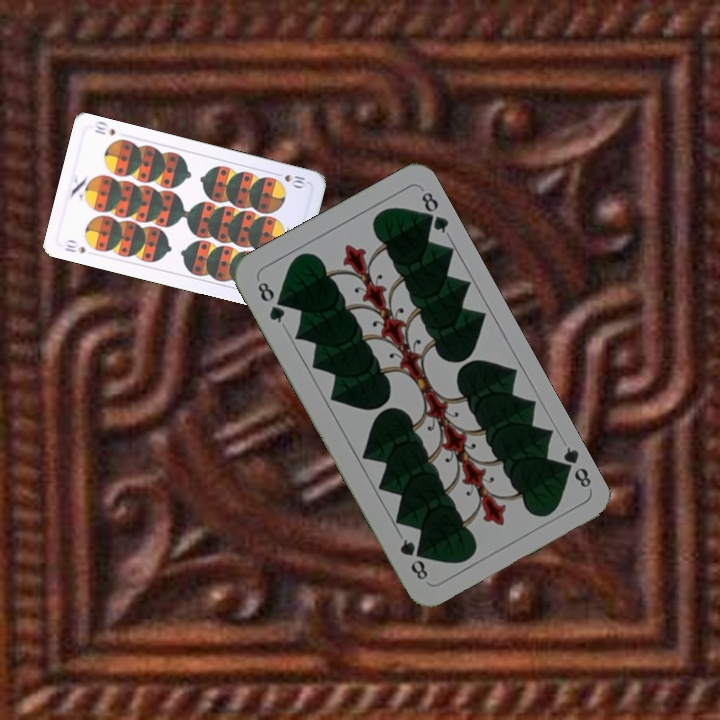G8: (554, 442, 594, 491), (253, 277, 288, 326)
S10: (270, 169, 310, 191), (61, 236, 88, 256)
